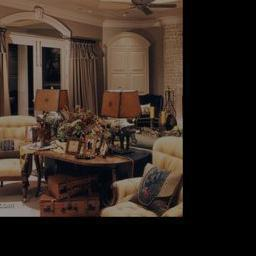Puerta: (111, 41, 150, 95)
